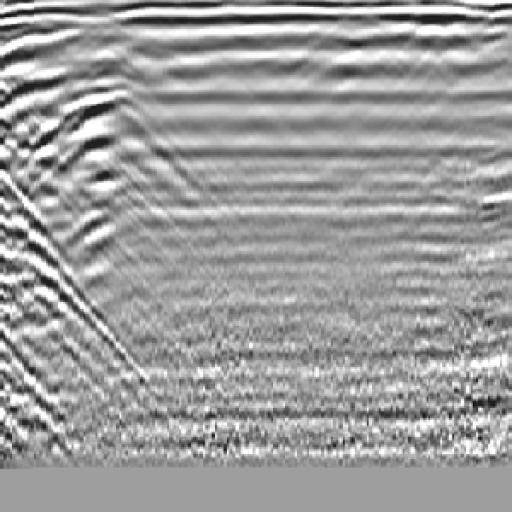metalic: (20, 35, 235, 293)
